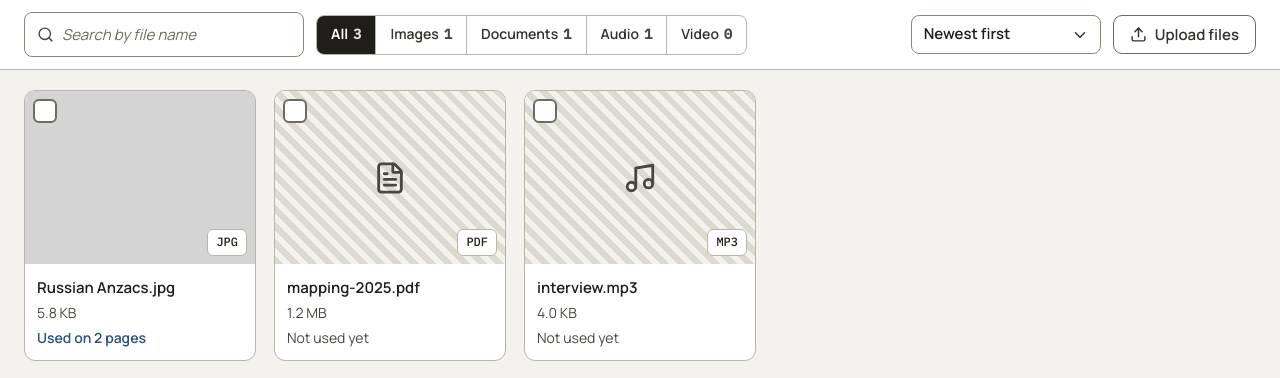
MediaBrowser in manage mode › asks the server to search rather than filtering what it already has
This screenshot has width=1280, height=378.
Expected: the link "Russian Anzacs.jpg" is shown, [37,277,175,298]
Type "map" into the search field labelled "Search by file name" at (180, 35), box [62,13,297,56]
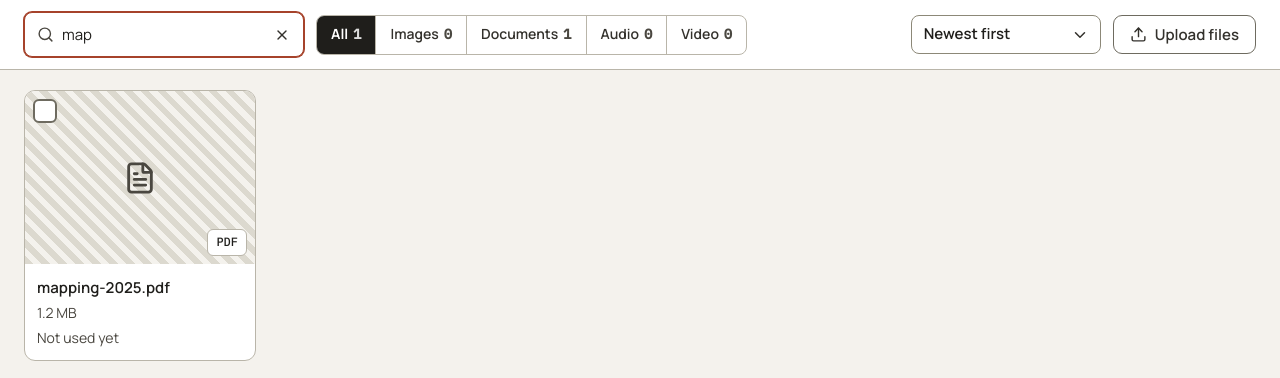
Expected: the link "mapping-2025.pdf" is shown, [37,277,170,298]
Now the link "Russian Anzacs.jpg" is gone
